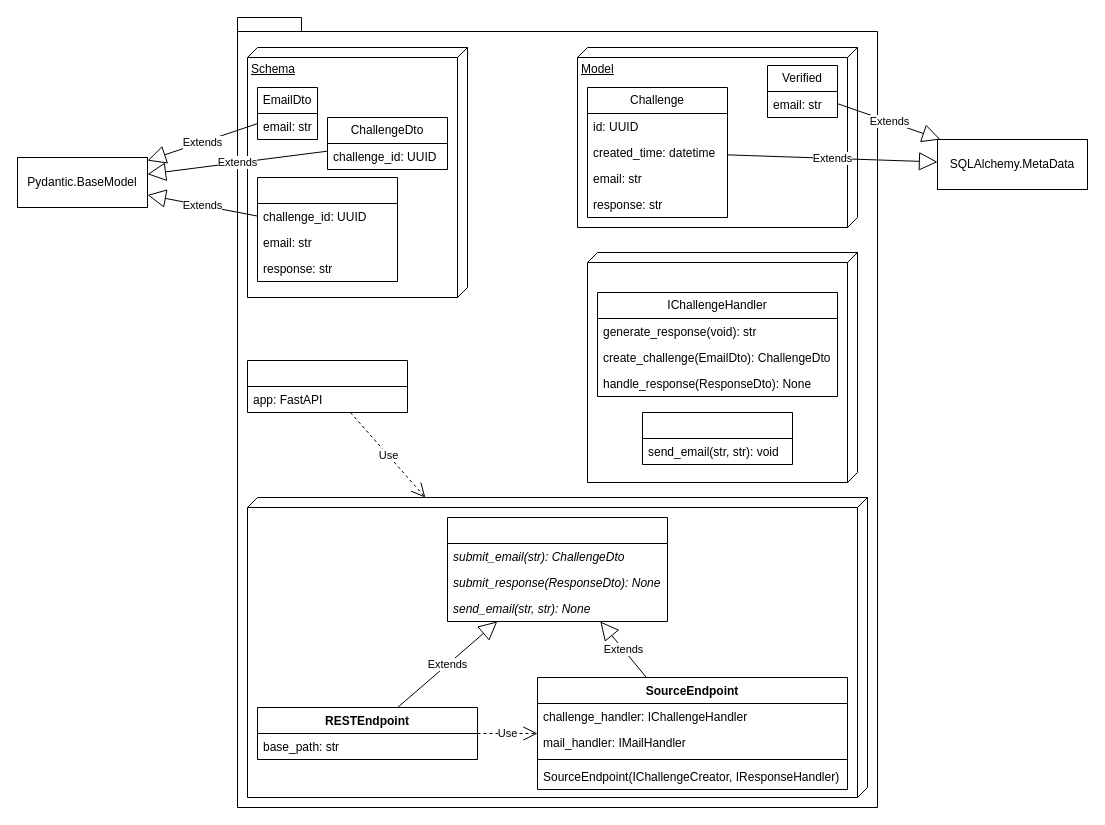
This 1105x825 diagram has some shape labels left out. The shapes that lost their labels are listed below. From the top down, each one's box as (x1, y1, x2, y2) in pixels, then its label:
(256, 176, 398, 282): ResponseDto
(246, 360, 408, 412): main
(586, 252, 858, 482): Behavior
(642, 412, 792, 464): IMailHandler
(446, 516, 668, 622): Endpoint
(246, 496, 868, 798): API
